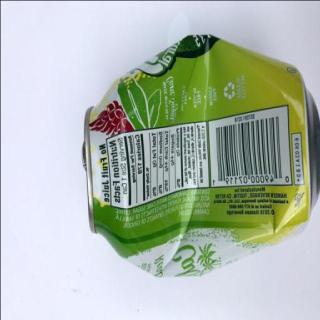Anorganik: (76, 33, 320, 286)
